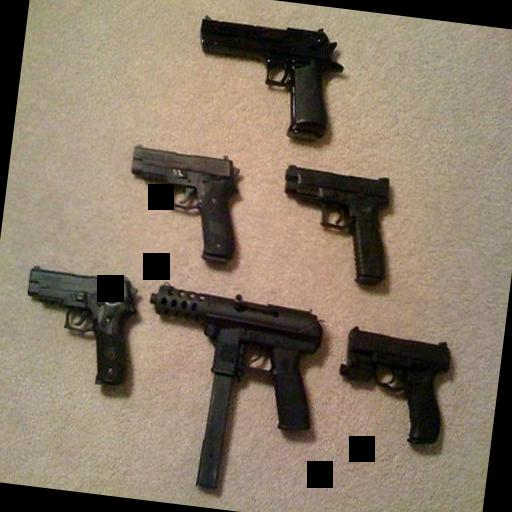Handgun: (186, 10, 348, 140), (270, 161, 400, 285), (332, 320, 454, 450), (16, 262, 141, 386), (120, 140, 246, 263)
